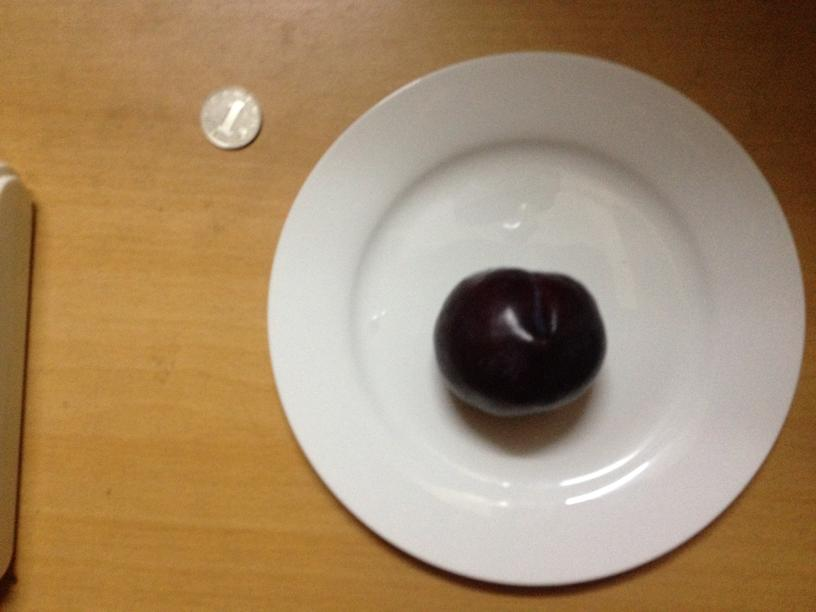coin: (199, 86, 263, 150)
plum: (425, 265, 608, 416)
